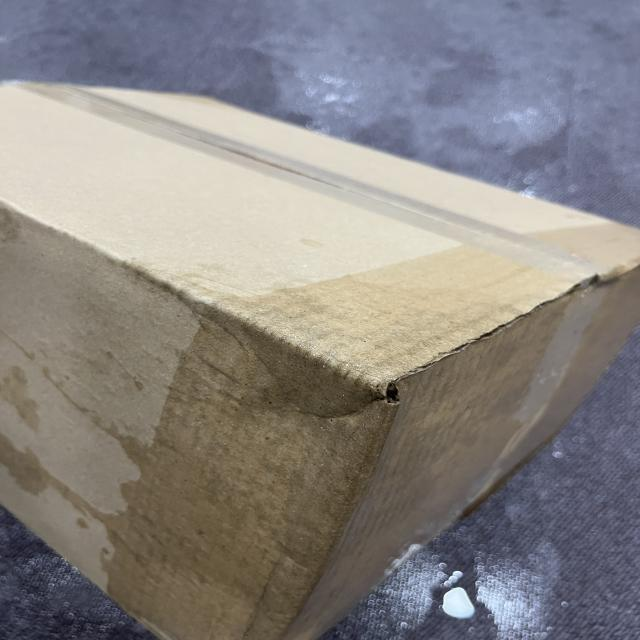wet: (90, 212, 622, 634)
